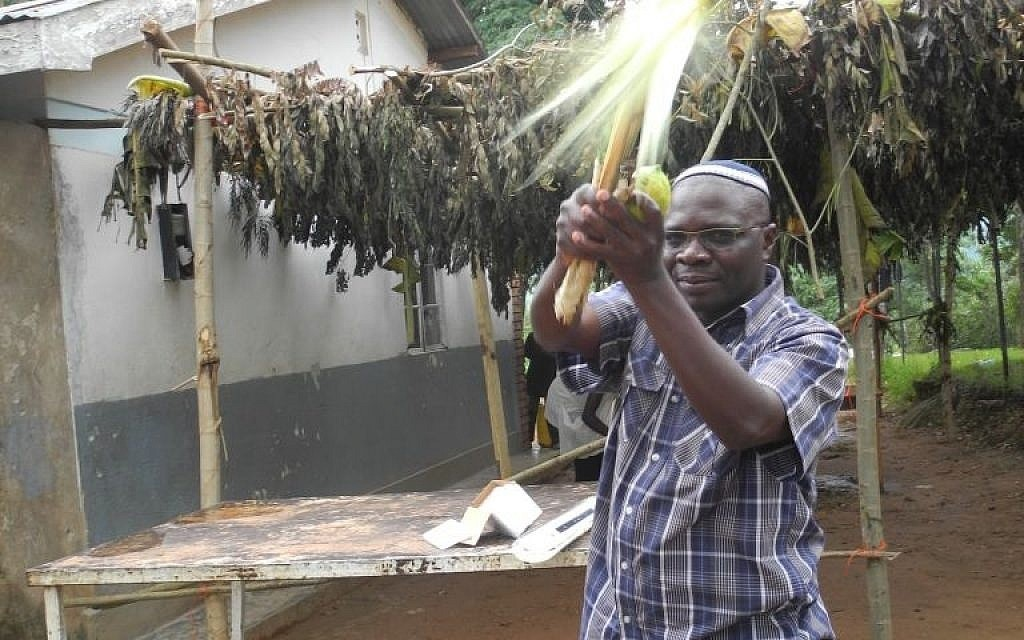face_no_mask: (653, 160, 772, 328)
